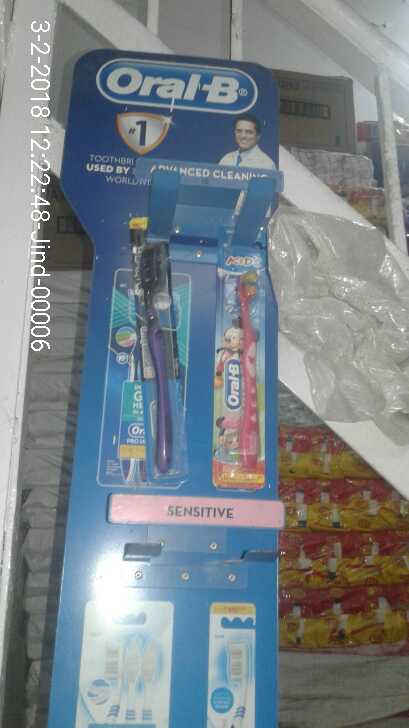oralb: (112, 237, 190, 469), (214, 266, 274, 482)
